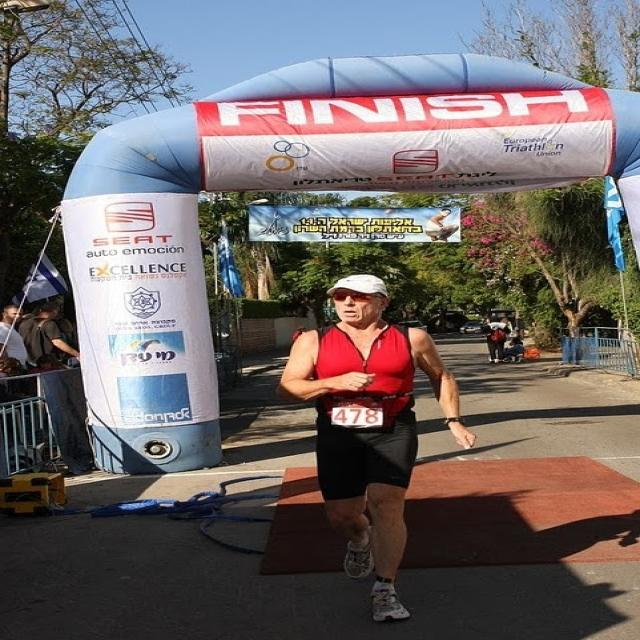Bib: (330, 407, 382, 426)
